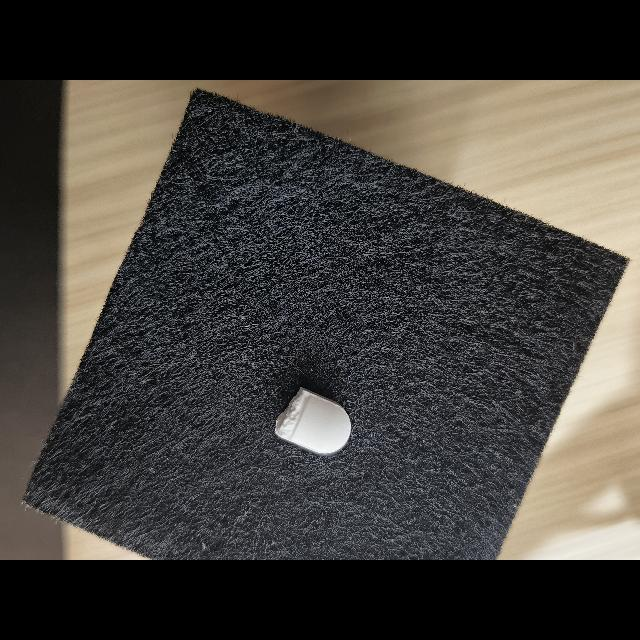Chipped Pill: (275, 387, 351, 454)
